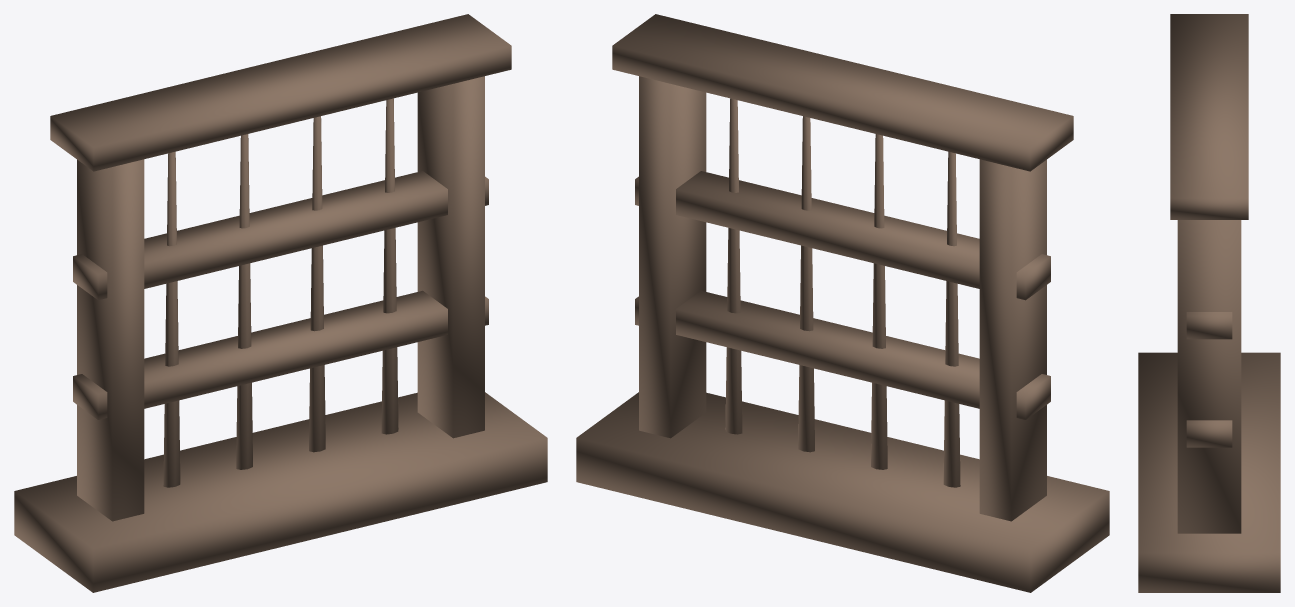
The model's file is murim-sword-rack.glb.
3 views of the same model, side by side, from view 1: azimuth 30°, elevation 25°; view 2: azimuth 150°, elevation 25°; view 3: azimuth 270°, elevation 25° (orthographic). The views are drawn at different scales.
Parts seen in each view (by area): view 1: murim-sword-rack; view 2: murim-sword-rack; view 3: murim-sword-rack.
Part boxes in pixels (x1,y1,x2,y2): murim-sword-rack: (14, 14, 547, 592); murim-sword-rack: (576, 14, 1109, 592); murim-sword-rack: (1138, 14, 1280, 592).
Bounding box in the file's own units: 1.5 × 1.35 × 0.45.
